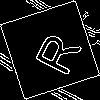R: (25, 25, 83, 79)
